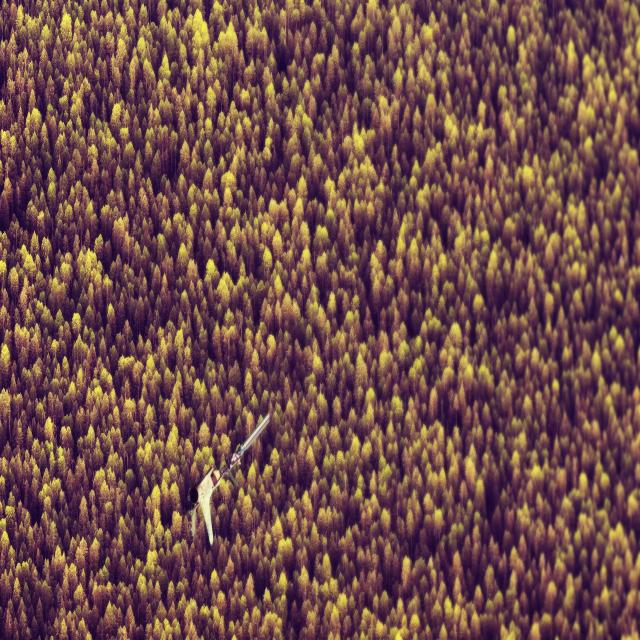airplane: (187, 411, 270, 546)
